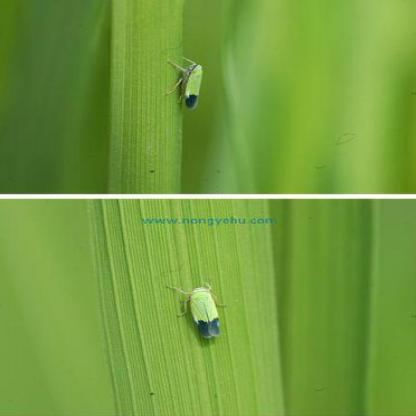Green-Leafhopper: (168, 268, 230, 344), (166, 51, 213, 115)
